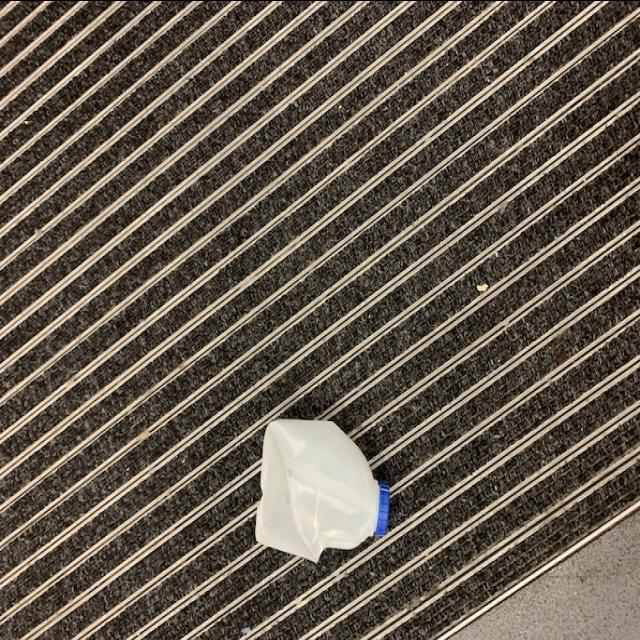litter: (250, 412, 390, 560)
